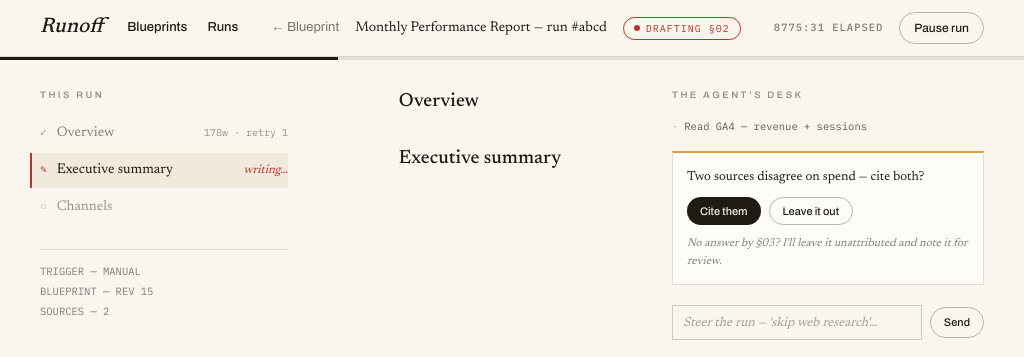
Live Run — the agent's desk › acknowledges a sent answer on the question card immediately
expect the element with test id "question-card-q1" shows "No answer by": met, box left=687, top=238, right=967, bottom=267
Click the button "Cite them". click: {"x": 724, "y": 211}
box: left=687, top=197, right=760, bottom=225
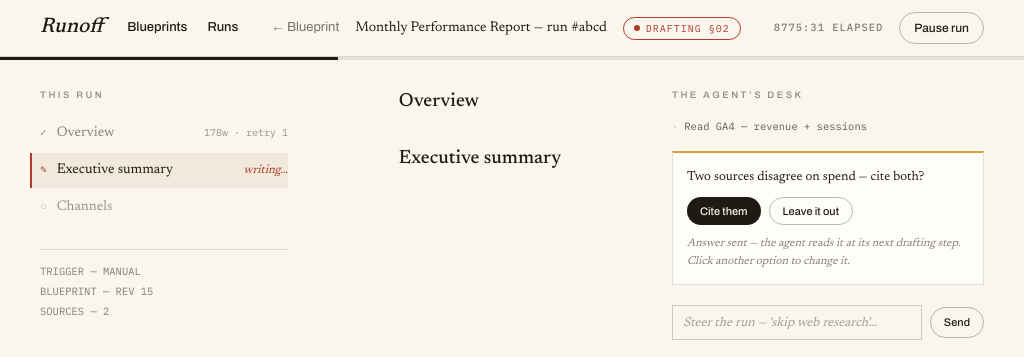
expect the element with test id "question-card-q1" shows "Answer sent": met, box left=687, top=238, right=960, bottom=267
expect the text with test id "question-card-q1" no longer shows "No answer by": met
